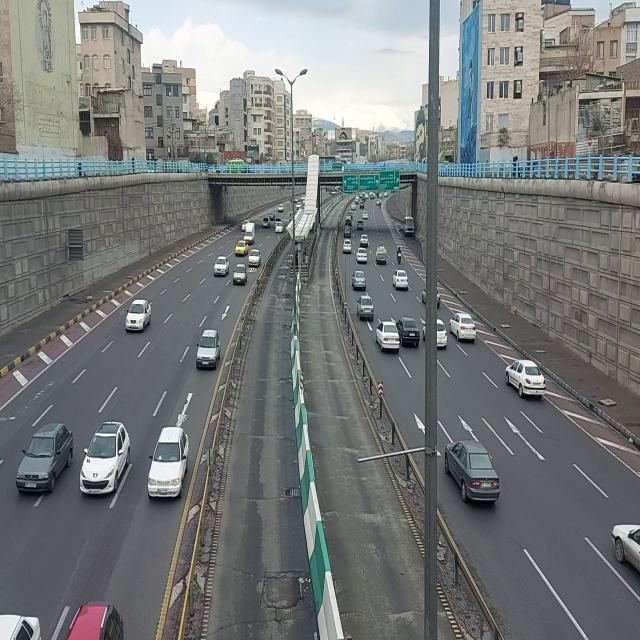Car: (16, 421, 75, 495), (80, 417, 132, 499), (444, 438, 501, 508), (146, 427, 189, 501), (506, 357, 547, 401), (195, 328, 222, 372), (125, 296, 153, 332), (449, 310, 477, 344), (376, 321, 401, 355), (399, 316, 421, 351), (356, 294, 375, 322), (213, 255, 231, 278), (233, 262, 249, 286), (393, 268, 409, 291), (438, 318, 449, 350), (351, 269, 367, 291), (248, 248, 262, 268), (235, 239, 249, 259), (356, 247, 368, 263), (343, 239, 353, 254), (344, 225, 353, 239), (262, 217, 272, 229), (360, 235, 369, 247), (275, 221, 284, 233), (357, 219, 365, 231), (277, 203, 285, 215), (296, 201, 302, 211), (363, 210, 369, 219), (351, 202, 357, 210)
Motorcycle: (397, 245, 403, 265)
Pickup: (244, 220, 256, 246), (375, 244, 388, 266)
